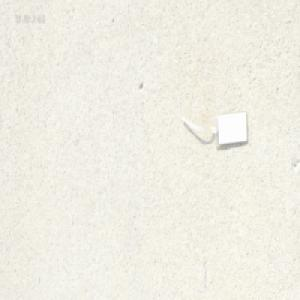LuggageTag: (180, 106, 249, 148)
